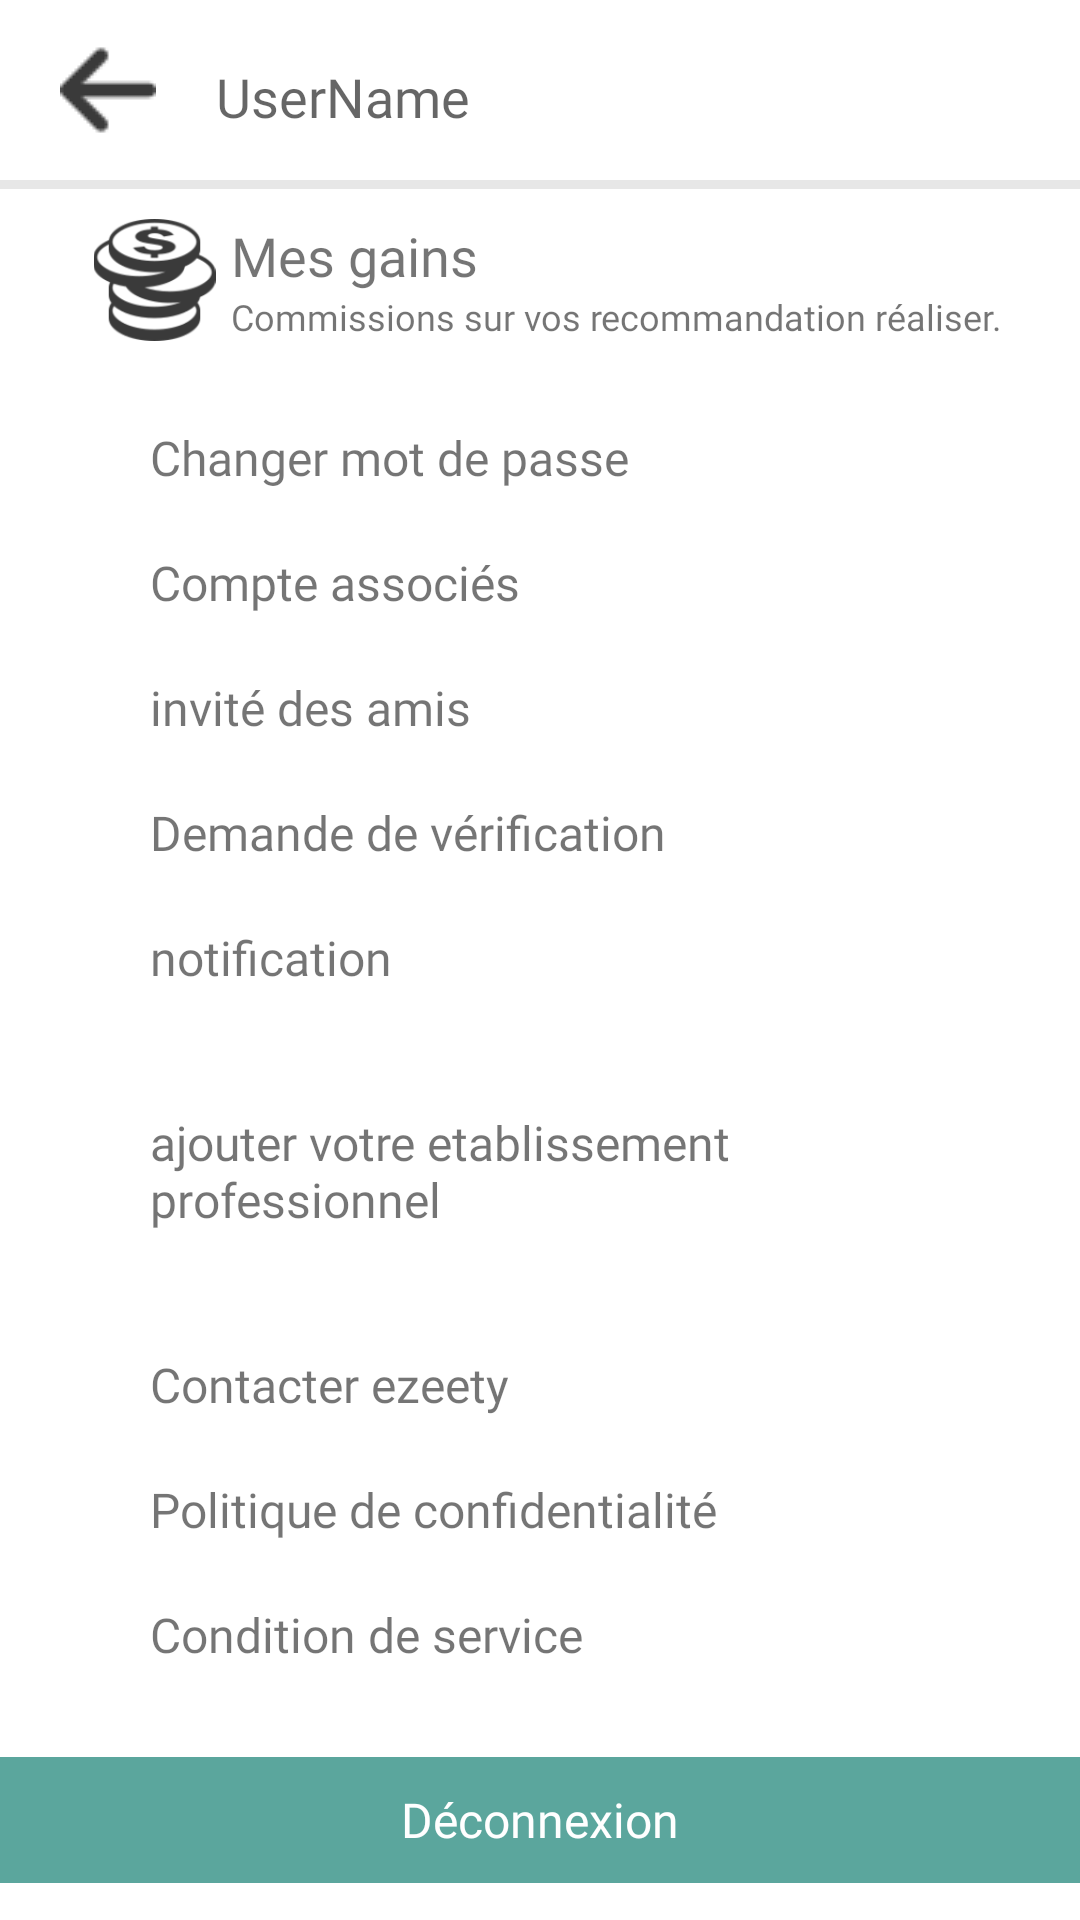

Locate icon controls on the screen. Image size 1080px×1920px, boxes as (x1, y1, x2, y2).
arrow: (60, 47, 156, 133)
